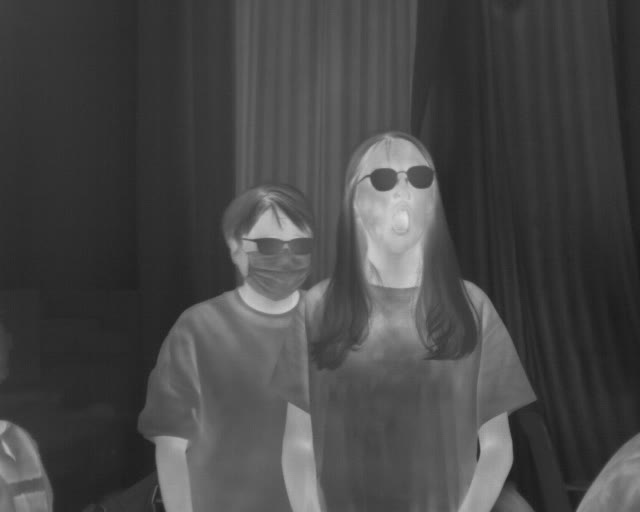face: (348, 132, 440, 255), (223, 182, 314, 302)
